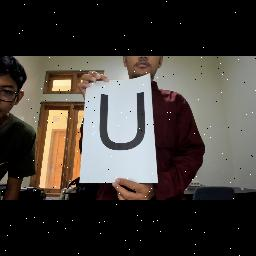u: (93, 90, 155, 156)
